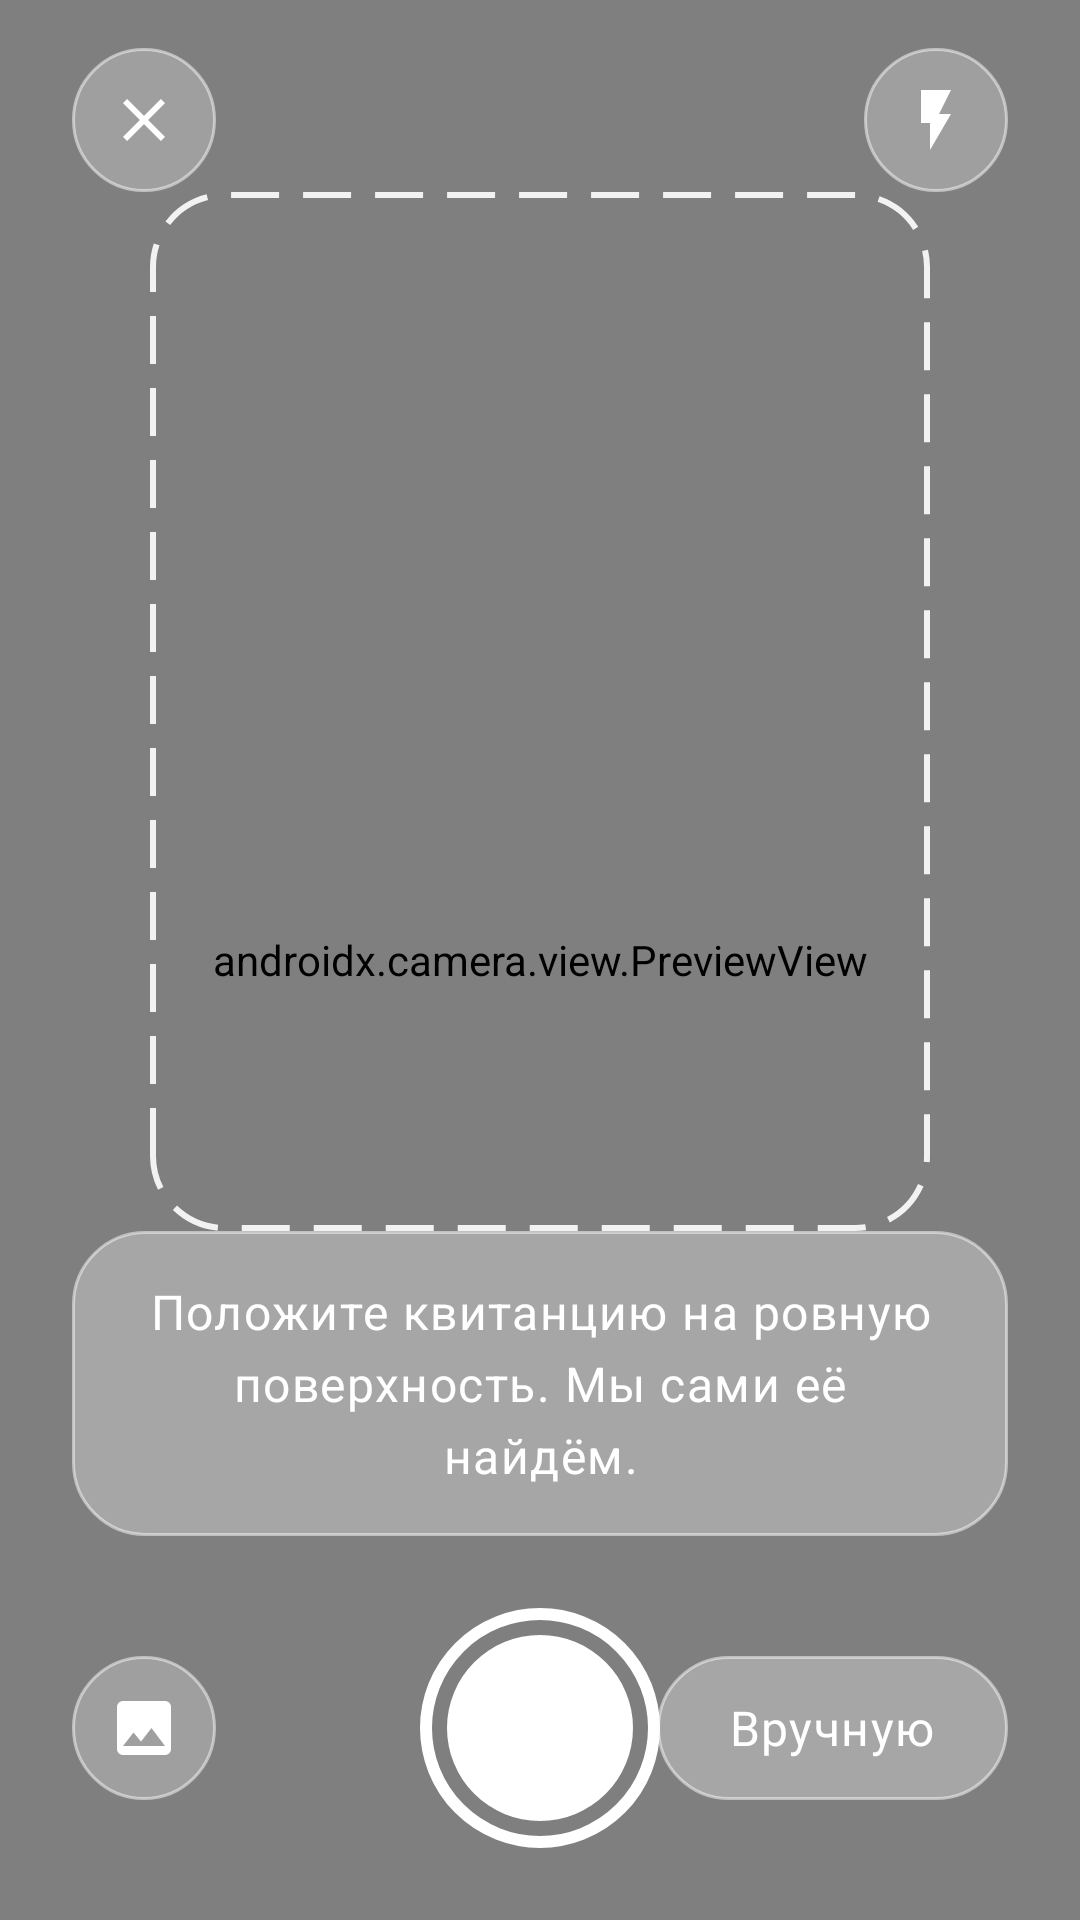

Icon bounding boxes for this 1080 × 1920 phone screenshot, format Rect(x1, y1, x2, y2):
Вспышка: Rect(864, 48, 1008, 192)
Выбрать фото из галереи: Rect(72, 1656, 216, 1800)
Закрыть камеру: Rect(72, 48, 216, 192)
